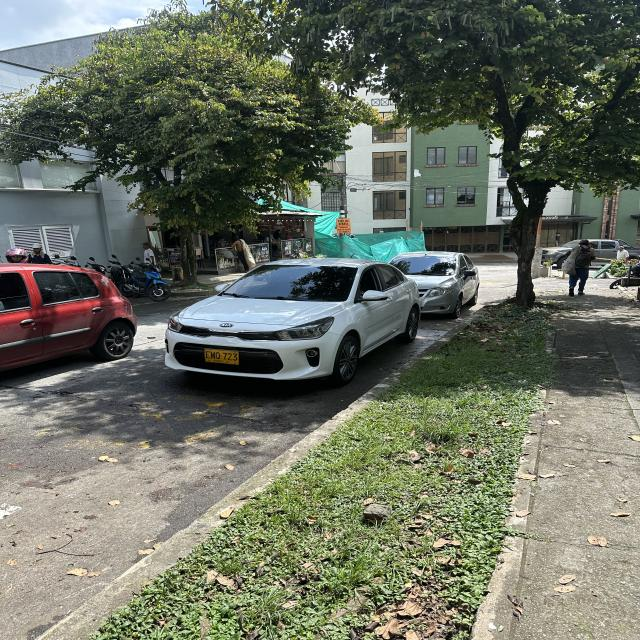number plate: (204, 349, 239, 365)
